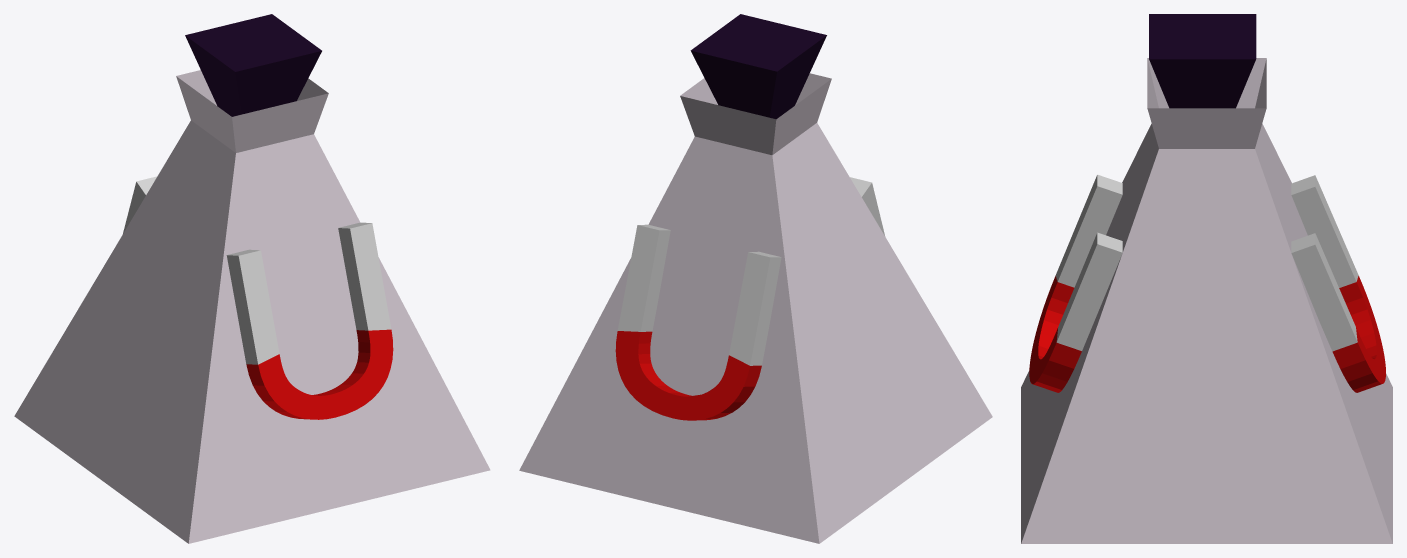
Rendered from potionMagent.fbx.
The picture shows the model from 3 angles, left to right: view 1: azimuth 30°, elevation 25°; view 2: azimuth 150°, elevation 25°; view 3: azimuth 270°, elevation 25°; orthographic projection. The views are drawn at different scales.
Visible parts, largest first — view 1: Cube, Text, Cube.001, Text.001; view 2: Cube, Text.001, Cube.001, Text; view 3: Cube, Text.001, Text, Cube.001.
Boxes of the visible parts, x1,y1,x2,y2 form: Cube: (14, 70, 490, 543); Text: (226, 222, 393, 419); Cube.001: (185, 14, 321, 116); Text.001: (123, 176, 157, 233); Cube: (519, 73, 992, 543); Text.001: (615, 224, 781, 420); Cube.001: (690, 14, 826, 119); Text: (850, 177, 885, 236); Cube: (1021, 58, 1392, 543); Text.001: (1291, 175, 1385, 392); Text: (1029, 174, 1122, 392); Cube.001: (1149, 14, 1256, 108).
Bounding box in the file's own units: 67.27 × 85.54 × 67.27.
